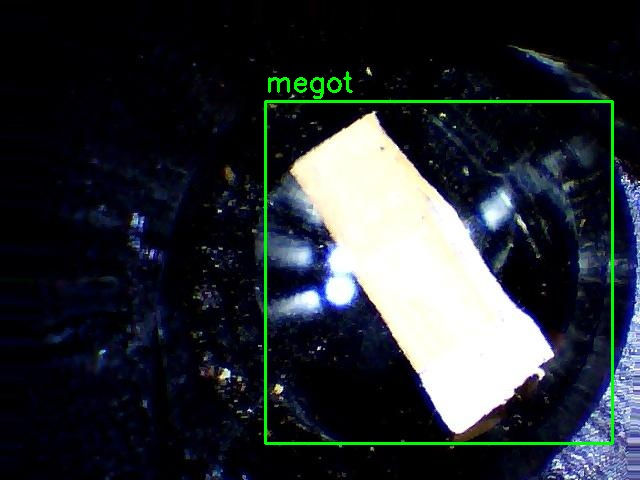megot: (265, 101, 612, 443)
